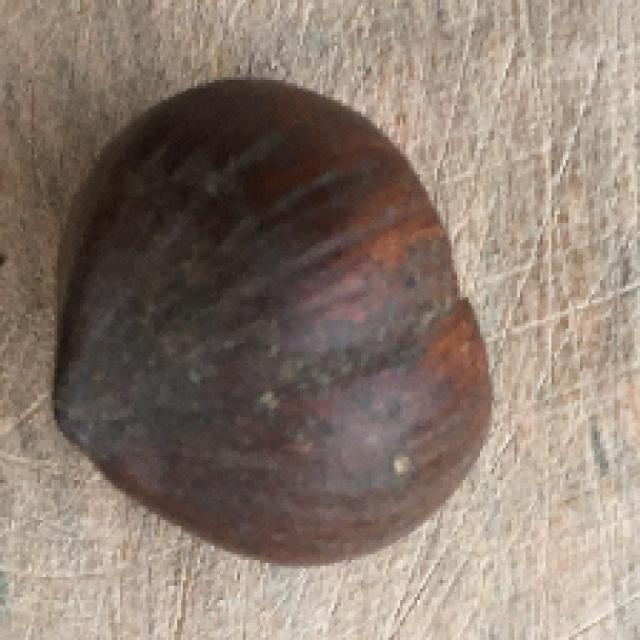damagedHazelnut: (49, 73, 498, 564)
